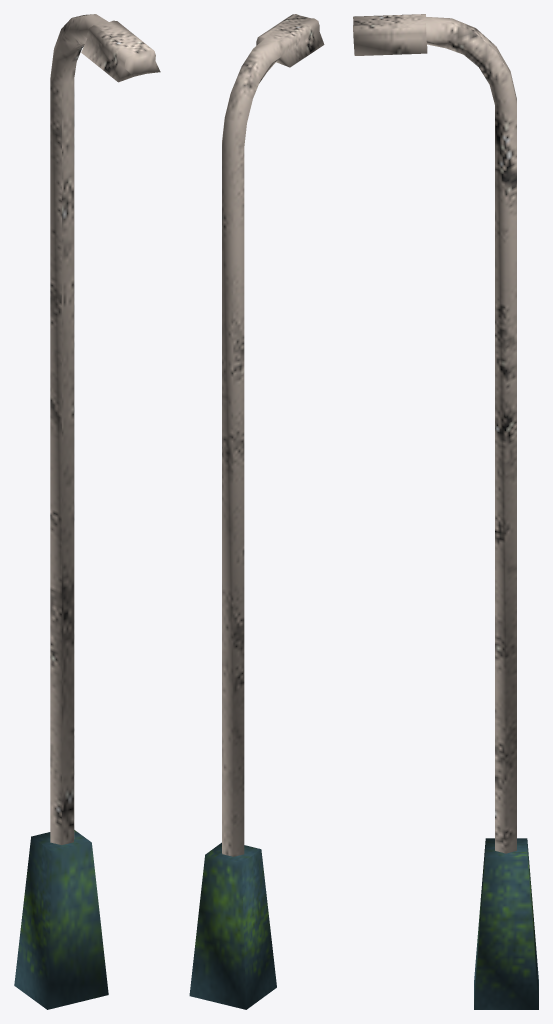
The model's file is Lamp Post.glb.
The picture shows the model from 3 angles, left to right: view 1: azimuth 30°, elevation 25°; view 2: azimuth 150°, elevation 25°; view 3: azimuth 270°, elevation 25°; orthographic projection. The views are drawn at different scales.
Parts seen in each view (by area): view 1: Lamp Post; view 2: Lamp Post; view 3: Lamp Post.
Part boxes in pixels (x1,y1,x2,y2): Lamp Post: (14, 14, 160, 1009); Lamp Post: (189, 14, 324, 1009); Lamp Post: (353, 14, 538, 1009).
Size of the model in its own units: 0.9582 by 14.88 by 2.57.
2 materials, 1 textured.
